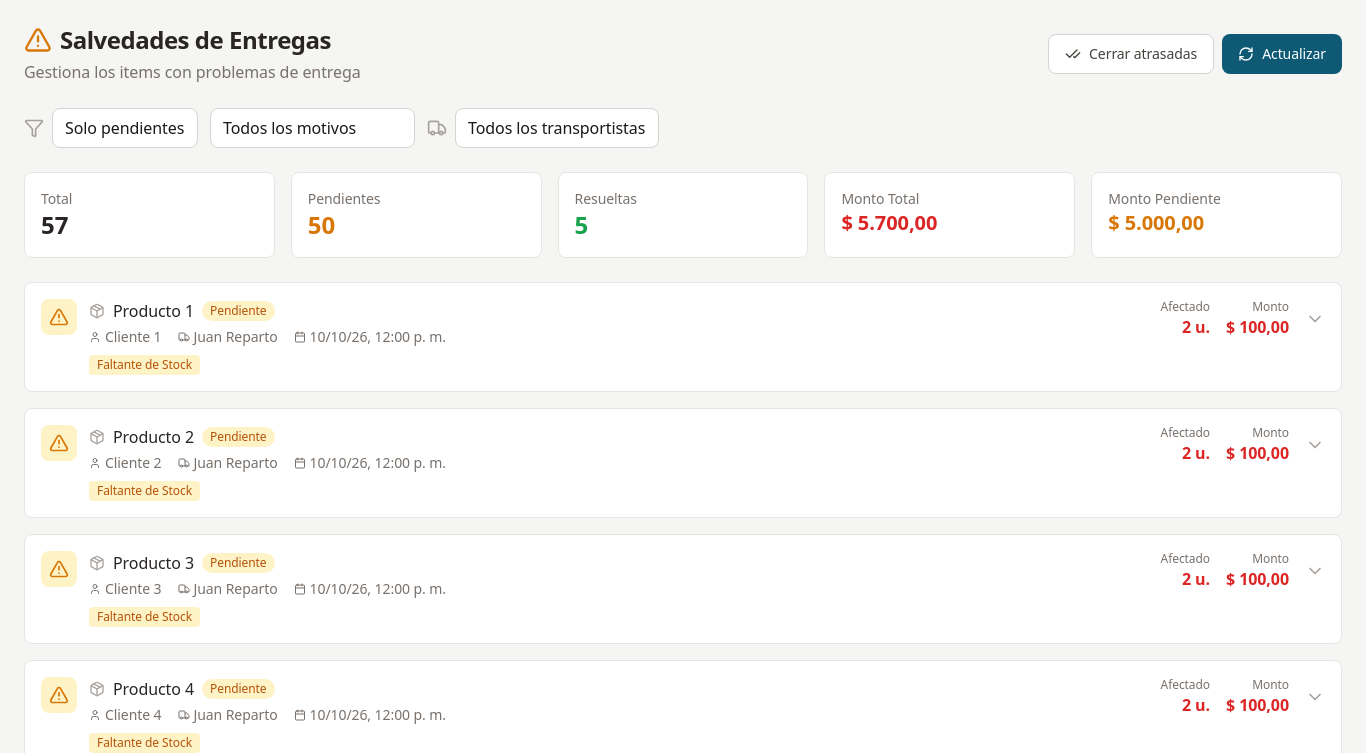
Test case: VistaSalvedades — período › con "Todas" aparece con los presets hoy / 7 días / 30 días / este mes; arranca en 7 días
This screenshot has width=1366, height=753.
Select "Todas" in the dropdown named "Estado". click: (125,128)
box: 52,108 -> 198,148
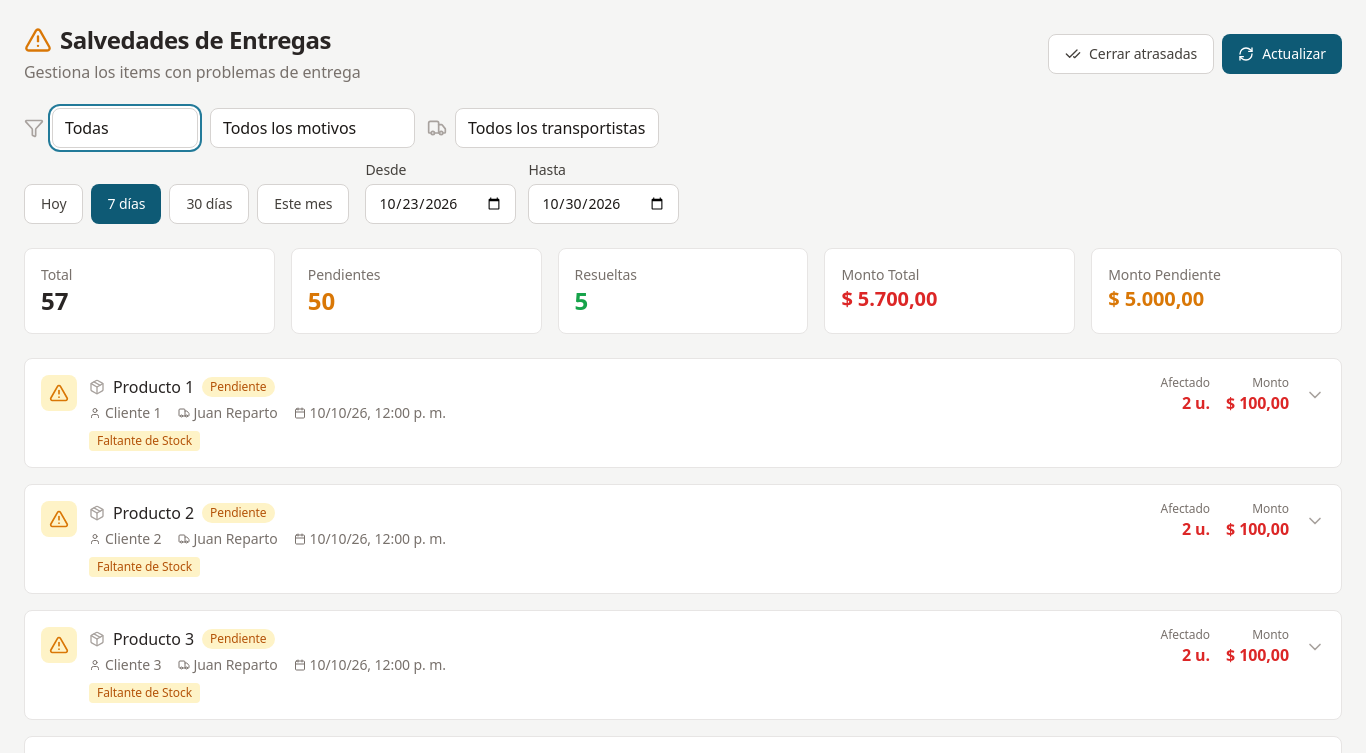
Expected: the buttons read "Hoy", "7 días", "30 días", "Este mes", in this order, 24,184 -> 84,224; 92,184 -> 162,224; 169,184 -> 249,224; 257,184 -> 349,224
